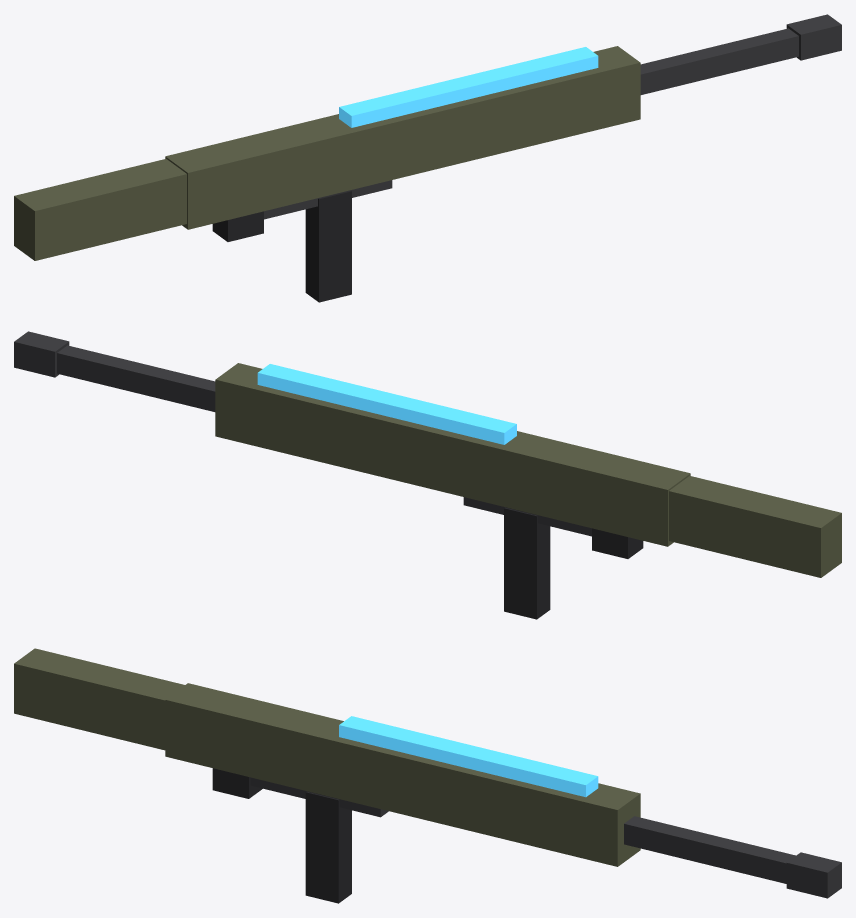
The model's file is SM_Wpn_DMR.fbx.
3 views of the same model, one above another, from view 1: azimuth 30°, elevation 25°; view 2: azimuth 150°, elevation 25°; view 3: azimuth 330°, elevation 25° (orthographic).
Parts seen in each view (by area): view 1: SM_Wpn_DMR; view 2: SM_Wpn_DMR; view 3: SM_Wpn_DMR.
Part boxes in pixels (x1,y1,x2,y2): SM_Wpn_DMR: (14, 14, 841, 302); SM_Wpn_DMR: (14, 331, 841, 619); SM_Wpn_DMR: (14, 648, 841, 903).
Size of the model in its own units: 98.5 by 4.8 by 20.7.
